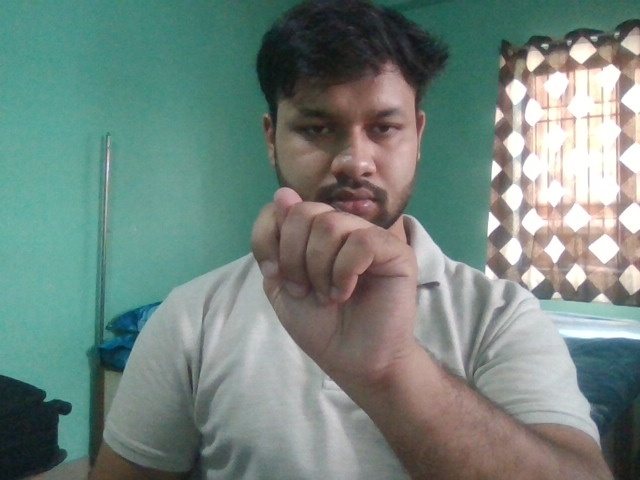Bathroom: (246, 185, 424, 367)
